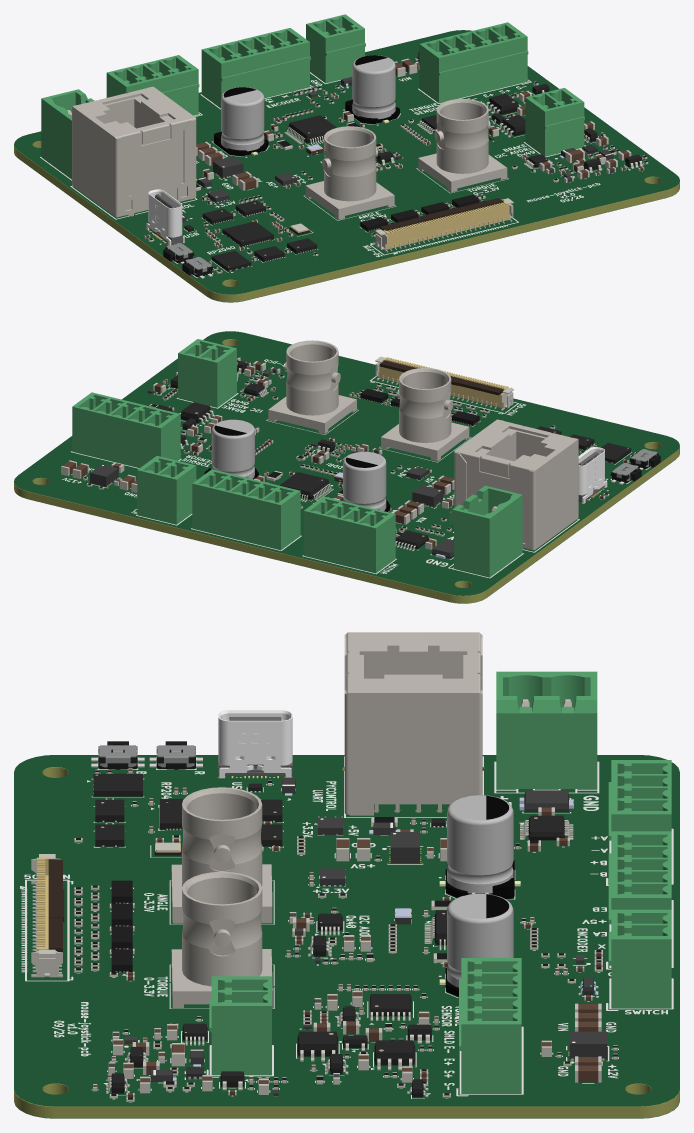
Rendered from mouse-joystick-pcb.glb.
3 renders of one model, top to bottom at view 1: azimuth 30°, elevation 25°; view 2: azimuth 150°, elevation 25°; view 3: azimuth 270°, elevation 25°, orthographic. The views are drawn at different scales.
Parts seen in each view (by area): view 1: =>[0:1:1:131], =>0:1:1:111, =>[0:1:1:19] (×2), =>[0:1:1:74] (×2), =>[0:1:1:84] (×2), =>[0:1:1:129] (×2), =>[0:1:1:133], =>[0:1:1:130], =>[0:1:1:90], =>[0:1:1:47], Housing, =>0:1:1:120 (+7 smaller); view 2: =>[0:1:1:131], =>[0:1:1:19] (×2), =>[0:1:1:74] (×2), =>0:1:1:111, =>[0:1:1:84] (×2), =>[0:1:1:133], =>[0:1:1:90], =>[0:1:1:47], =>[0:1:1:129] (×2), =>[0:1:1:130], Housing, =>0:1:1:120 (+6 smaller); view 3: =>[0:1:1:131], =>0:1:1:111, =>[0:1:1:74] (×2), =>[0:1:1:19] (×2), =>[0:1:1:84] (×2), =>[0:1:1:47], =>[0:1:1:129] (×2), =>[0:1:1:130], =>[0:1:1:133], =>[0:1:1:90], =>0:1:1:120, =>[0:1:1:104] (×2) (+10 smaller).
Part boxes in pixels (x1,y1,x2,y2): =>[0:1:1:131]: (14,30,679,294); =>0:1:1:111: (72,86,196,217); =>[0:1:1:19] (×2): (201,22,528,108); =>[0:1:1:74] (×2): (305,98,507,219); =>[0:1:1:84] (×2): (306,14,584,156); =>[0:1:1:129] (×2): (214,55,399,156); =>[0:1:1:133]: (14,141,679,302); =>[0:1:1:130]: (40,61,644,277); =>[0:1:1:90]: (106,55,199,115); =>[0:1:1:47]: (41,89,94,179); Housing: (383,200,509,249); =>0:1:1:120: (146,189,184,245); =>[0:1:1:131]: (14,331,679,595); =>[0:1:1:19] (×2): (72,392,301,550); =>[0:1:1:74] (×2): (268,340,469,461); =>0:1:1:111: (454,419,578,550); =>[0:1:1:84] (×2): (137,339,237,524); =>[0:1:1:133]: (14,339,679,603); =>[0:1:1:90]: (303,496,396,573); =>[0:1:1:47]: (449,485,522,577); =>[0:1:1:129] (×2): (204,419,390,511); =>[0:1:1:130]: (62,359,650,578); Housing: (379,357,508,407); =>0:1:1:120: (578,447,607,503); =>[0:1:1:131]: (14,755,679,1106); =>0:1:1:111: (344,632,482,815); =>[0:1:1:74] (×2): (171,787,272,1007); =>[0:1:1:19] (×2): (459,831,671,1093); =>[0:1:1:84] (×2): (209,909,671,1075); =>[0:1:1:47]: (496,671,597,788); =>[0:1:1:129] (×2): (439,795,520,996); =>[0:1:1:130]: (20,756,673,1102); =>[0:1:1:133]: (14,767,679,1118); =>[0:1:1:90]: (608,760,671,840); =>0:1:1:120: (218,710,292,778); =>[0:1:1:104] (×2): (297,1031,415,1070).
Bounding box in the file's own units: 0.1003 × 0.0205 × 0.08.
